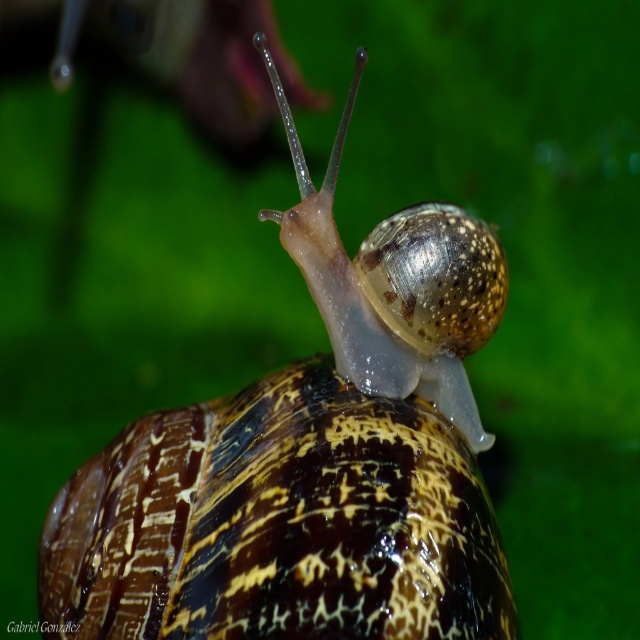Snail: (37, 346, 524, 639), (257, 24, 509, 460)
